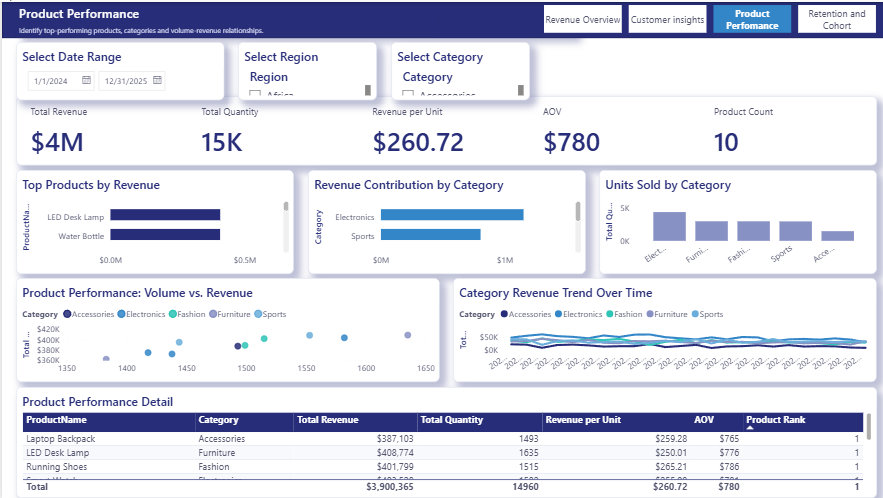

The page's visual inventory and layout, read from the dashboard file:
{"tool":"powerbi","page":{"name":"Product Perfomance","canvas":[1280,720],"ordinal":2},"visuals":[{"type":"card","fields":{"Values":["Ecommerce_Sales_Dataset_PowerBI.Total Revenue"]},"box":[0,0,245.9,139],"z":0},{"type":"card","fields":{"Values":["Ecommerce_Sales_Dataset_PowerBI.Total Quantity"]},"box":[259,0,279.5,139],"z":1000},{"type":"card","fields":{"Values":["Ecommerce_Sales_Dataset_PowerBI.AOV"]},"box":[526.8,0,248.8,139],"z":2000},{"type":"card","fields":{"Values":["Ecommerce_Sales_Dataset_PowerBI.Avg Unit Price"]},"box":[755.1,0,279.5,139],"z":3000},{"type":"clusteredBarChart","fields":{"Category":["Ecommerce_Sales_Dataset_PowerBI.Category"],"Y":["Ecommerce_Sales_Dataset_PowerBI.Total Revenue"]},"box":[0,161,357.1,210.7],"z":4000},{"type":"clusteredBarChart","fields":{"Category":["Ecommerce_Sales_Dataset_PowerBI.ProductName"],"Y":["Ecommerce_Sales_Dataset_PowerBI.Total Revenue"]},"box":[377.6,161,414.1,254.6],"z":5000},{"type":"scatterChart","fields":{"X":["Ecommerce_Sales_Dataset_PowerBI.Total Quantity"],"Y":["Ecommerce_Sales_Dataset_PowerBI.Total Revenue"],"Series":["Ecommerce_Sales_Dataset_PowerBI.Category"],"Category":["Ecommerce_Sales_Dataset_PowerBI.ProductName"]},"box":[1001,150.7,279.5,242.9],"z":6000},{"type":"lineChart","fields":{"Category":["Ecommerce_Sales_Dataset_PowerBI.YearMonth"],"Y":["Ecommerce_Sales_Dataset_PowerBI.Total Revenue"],"Series":["Ecommerce_Sales_Dataset_PowerBI.Category"]},"box":[10.2,434.6,657.1,264.9],"z":7000},{"type":"slicer","fields":{"Values":["Ecommerce_Sales_Dataset_PowerBI.OrderDate"]},"box":[1001,0,175.6,139],"z":8000},{"type":"slicer","fields":{"Values":["Ecommerce_Sales_Dataset_PowerBI.Category"]},"box":[667.3,513.7,149.3,185.9],"z":9000},{"type":"slicer","fields":{"Values":["Ecommerce_Sales_Dataset_PowerBI.Region"]},"box":[807.8,168.3,175.6,196.1],"z":10000},{"type":"tableEx","fields":{"Values":["Ecommerce_Sales_Dataset_PowerBI.ProductName","Ecommerce_Sales_Dataset_PowerBI.Total Revenue","Ecommerce_Sales_Dataset_PowerBI.Total Quantity","Ecommerce_Sales_Dataset_PowerBI.AOV"]},"box":[822.4,420,458,300],"z":11000}]}

Visuals, with their boxes in screenshot pixels (x1, y1, x2, y2), scaled from the page's 1280x720 canvas onto the 883x498 screenshot:
card - Ecommerce_Sales_Dataset_PowerBI.Total Revenue: x1=0, y1=0, x2=170, y2=96
card - Ecommerce_Sales_Dataset_PowerBI.Total Quantity: x1=179, y1=0, x2=371, y2=96
card - Ecommerce_Sales_Dataset_PowerBI.AOV: x1=363, y1=0, x2=535, y2=96
card - Ecommerce_Sales_Dataset_PowerBI.Avg Unit Price: x1=521, y1=0, x2=714, y2=96
clusteredBarChart - Ecommerce_Sales_Dataset_PowerBI.Category x Ecommerce_Sales_Dataset_PowerBI.Total Revenue: x1=0, y1=111, x2=246, y2=257
clusteredBarChart - Ecommerce_Sales_Dataset_PowerBI.ProductName x Ecommerce_Sales_Dataset_PowerBI.Total Revenue: x1=260, y1=111, x2=546, y2=287
scatterChart - Ecommerce_Sales_Dataset_PowerBI.Total Quantity x Ecommerce_Sales_Dataset_PowerBI.Total Revenue: x1=691, y1=104, x2=882, y2=272
lineChart - Ecommerce_Sales_Dataset_PowerBI.YearMonth x Ecommerce_Sales_Dataset_PowerBI.Total Revenue: x1=7, y1=301, x2=460, y2=484
slicer - Ecommerce_Sales_Dataset_PowerBI.OrderDate: x1=691, y1=0, x2=812, y2=96
slicer - Ecommerce_Sales_Dataset_PowerBI.Category: x1=460, y1=355, x2=563, y2=484
slicer - Ecommerce_Sales_Dataset_PowerBI.Region: x1=557, y1=116, x2=678, y2=252
tableEx - Ecommerce_Sales_Dataset_PowerBI.ProductName x Ecommerce_Sales_Dataset_PowerBI.Total Revenue: x1=567, y1=290, x2=882, y2=497
